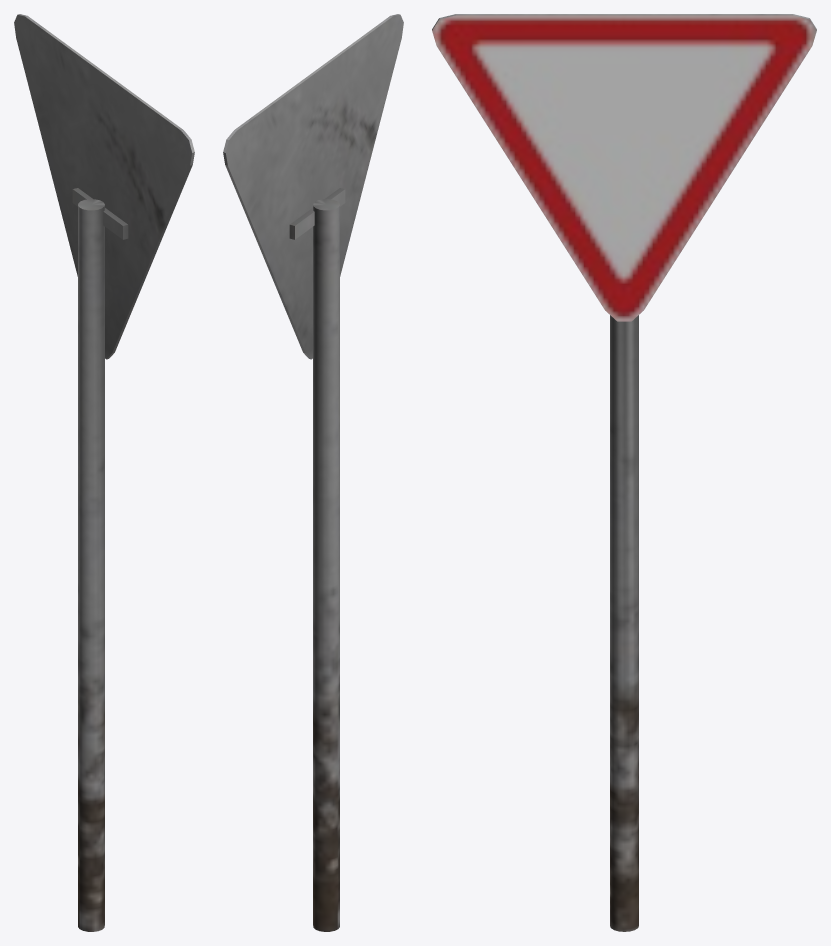
The model's file is sg_yield.glb.
3 views of the same model, side by side, from view 1: azimuth 30°, elevation 25°; view 2: azimuth 150°, elevation 25°; view 3: azimuth 270°, elevation 25° (orthographic). The views are drawn at different scales.
Visible parts, largest first — view 1: body|signs; view 2: body|signs; view 3: body|signs.
Boxes of the visible parts, bbox=[...] form: body|signs: bbox=[14, 14, 194, 931]; body|signs: bbox=[223, 14, 403, 931]; body|signs: bbox=[432, 14, 816, 931].
Size of the model in its own units: 0.0758 by 2.36 by 0.8951.
1 material, 1 textured.
